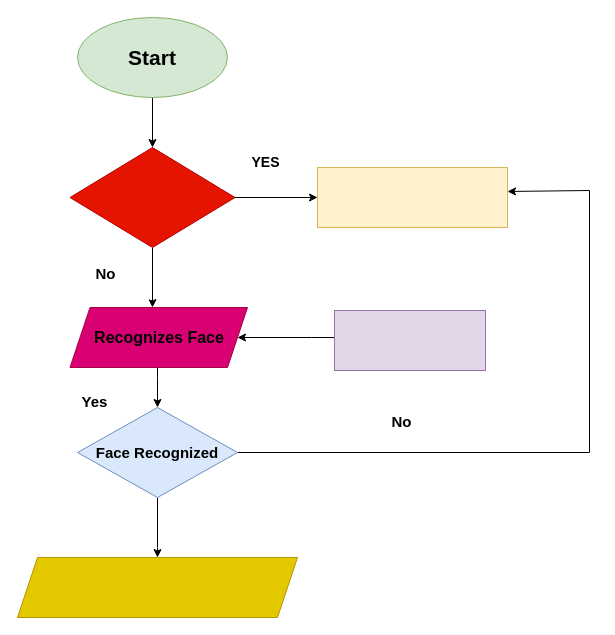
The diagram is 615 pixels wide and 635 high, and some of its shapes have lost their labels. Here are the shapes that lost their labels. From the top down, the centre of each, then its label:
[152,197]: New User?
[412,197]: Give Your Photograph
[410,340]: Store the face data in the folder of your name
[157,587]: Stored in CSV File with Registration Number and Date-Time or entry
